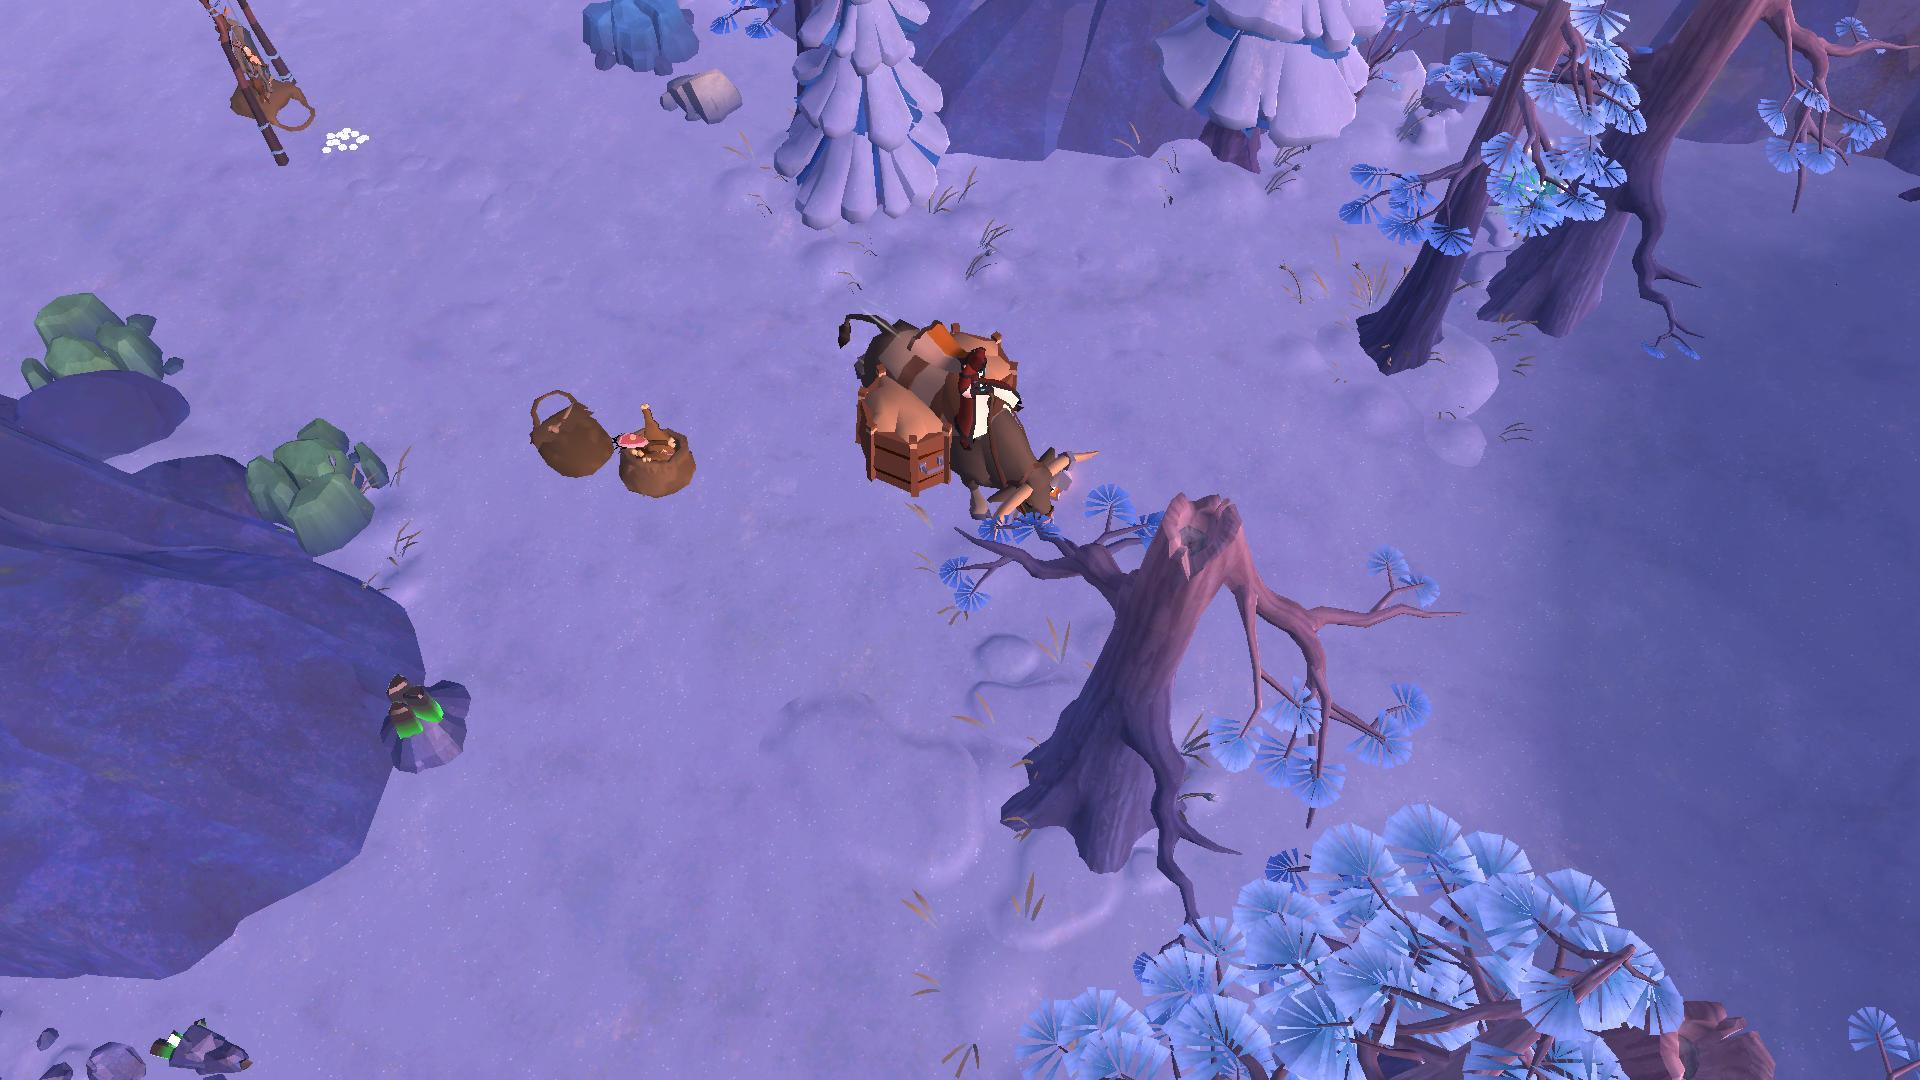ore_t3: (377, 670, 444, 741)
rock_t3: (15, 282, 185, 419), (236, 410, 392, 555)
rock_t4: (570, 0, 712, 75)
